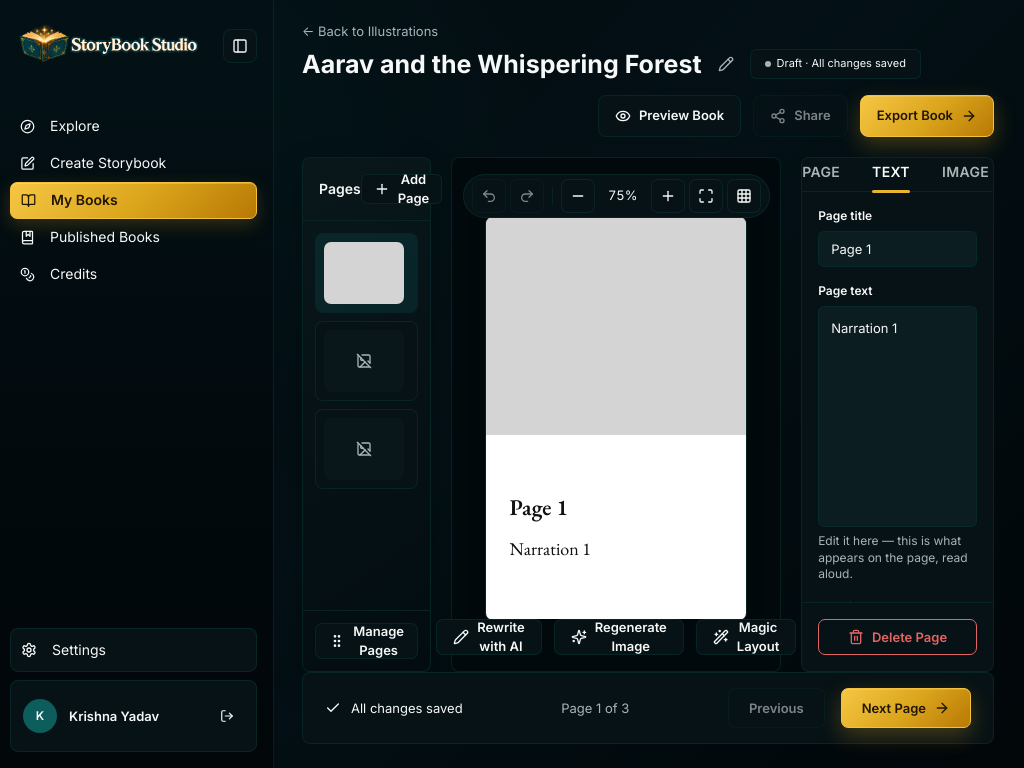
it: the book editor › saves an edit to the page text
Check: the heading "Aarav and the Whispering Forest" is shown, box [302, 49, 702, 79]
Click the tab "Text" at (891, 175), box [872, 158, 910, 192]
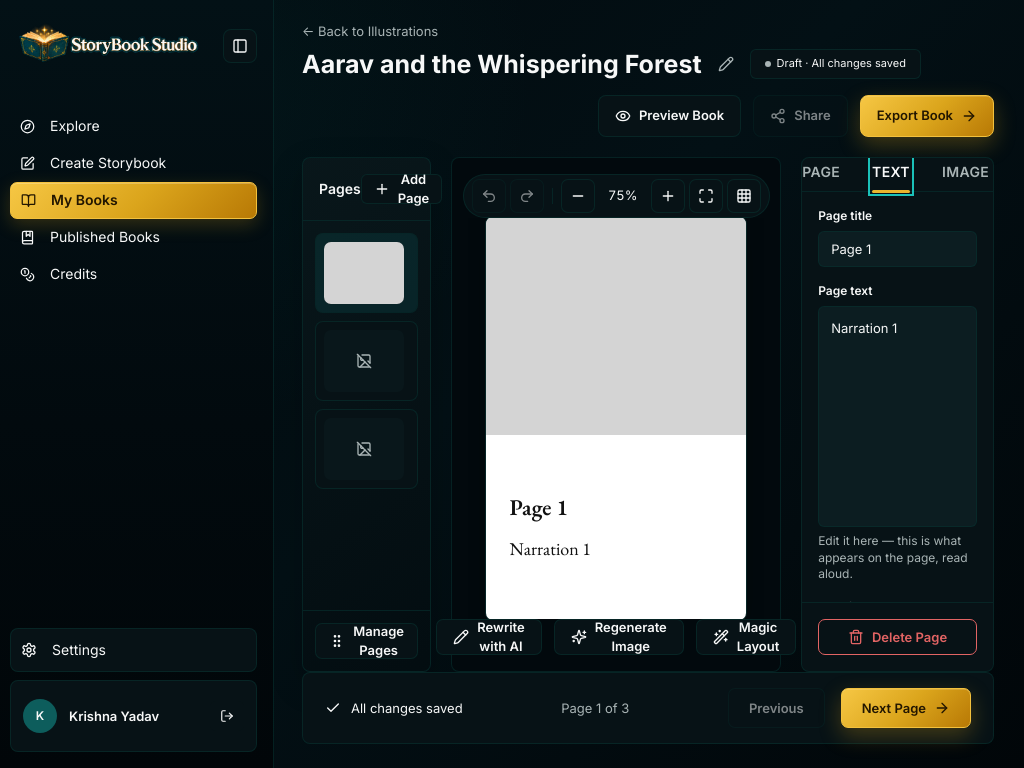
Replace the text in the field labelled "Page title" with "The Map" at (898, 249), box [818, 231, 977, 267]
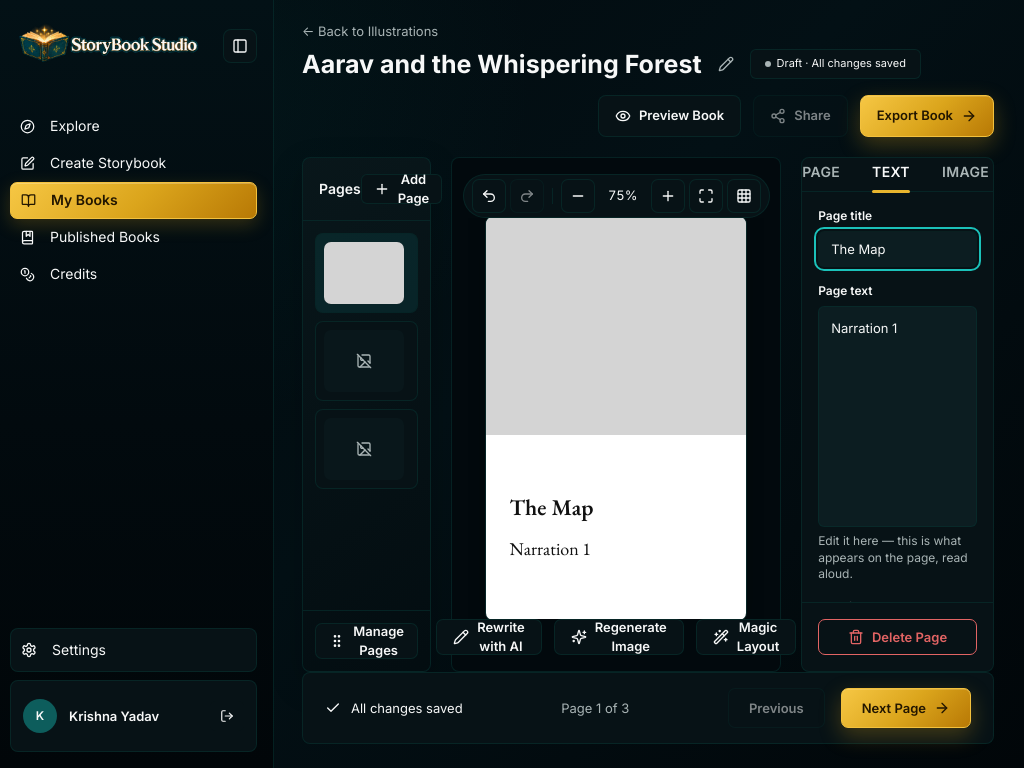
Check: the heading "The Map" is shown, box [510, 492, 593, 522]
